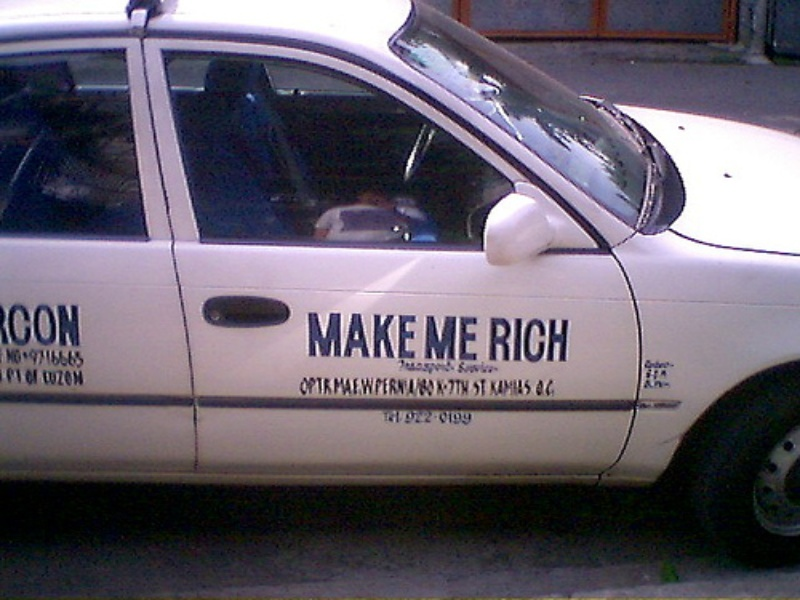car: (1, 1, 800, 570)
